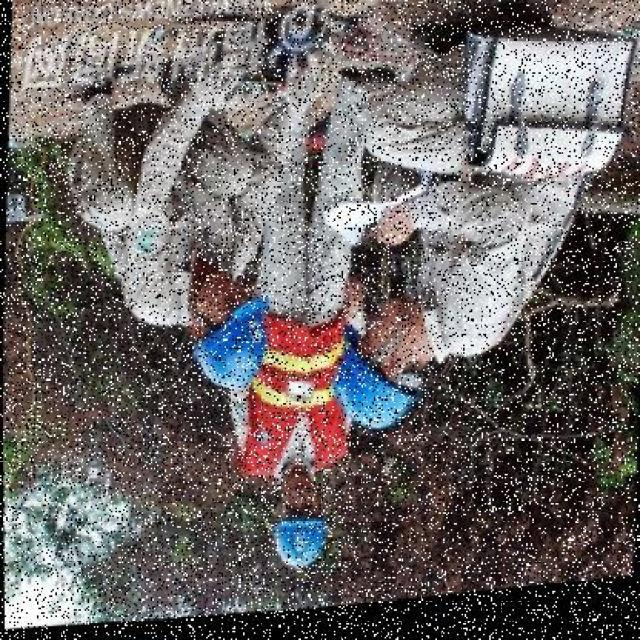helmet: (328, 335, 413, 447), (191, 295, 265, 399), (266, 517, 322, 579)
vest: (246, 312, 342, 480)
